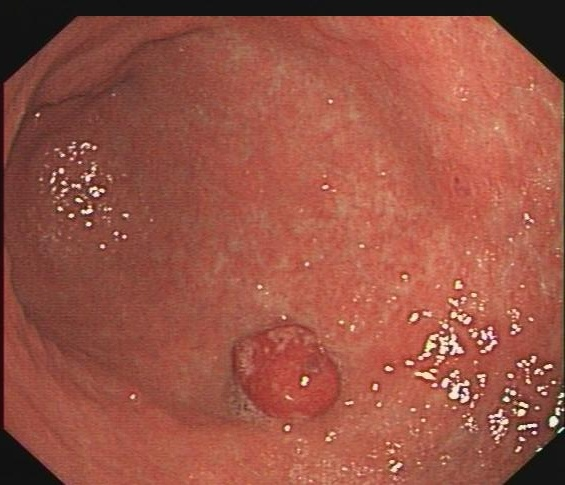Polyp: (231, 312, 346, 421)
